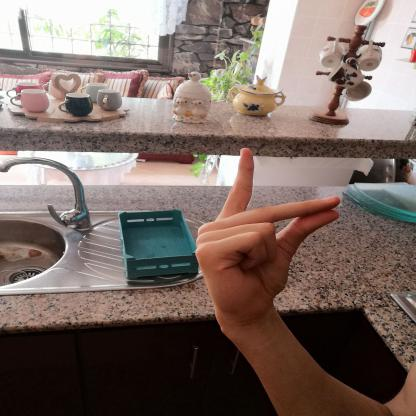TAA: (184, 139, 352, 329)
